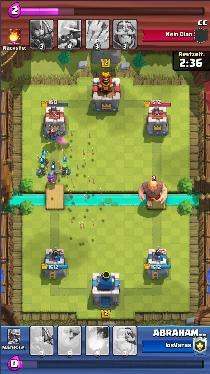ally_arrow: (64, 131, 100, 243)
ally_musketeer: (47, 169, 58, 186)
ally_spear_goblin: (60, 163, 71, 176), (36, 164, 47, 176), (38, 154, 49, 164)
enemy_giant: (137, 179, 168, 206)
enemy_mini_pekka: (44, 130, 60, 142)
